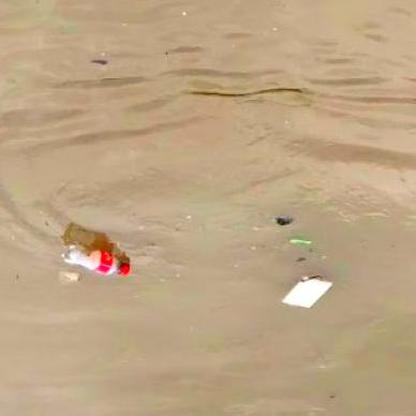foam: (281, 277, 331, 308)
plastic bottle: (62, 243, 130, 275)
